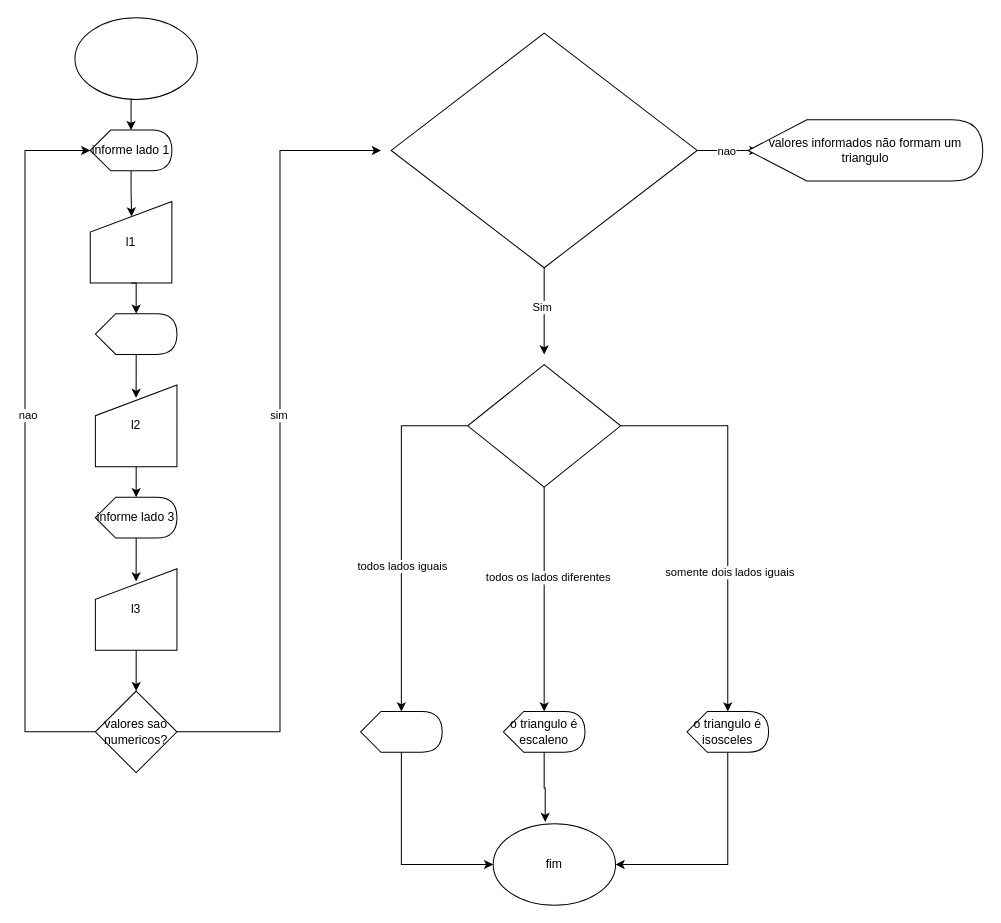
Some shapes in this 1001 by 923 pixel diagram are drawn without their labels. The box of each missing label's shape, as (x1, y1, x2, y2) in pixels:
igualdade dos lados: (467, 364, 621, 487)
informe lado 2: (94, 313, 177, 354)
inicio: (74, 17, 197, 99)
o triangulo é equilatero: (360, 710, 442, 752)
um lado é menor que a soma dos outros dois?: (390, 32, 697, 268)
